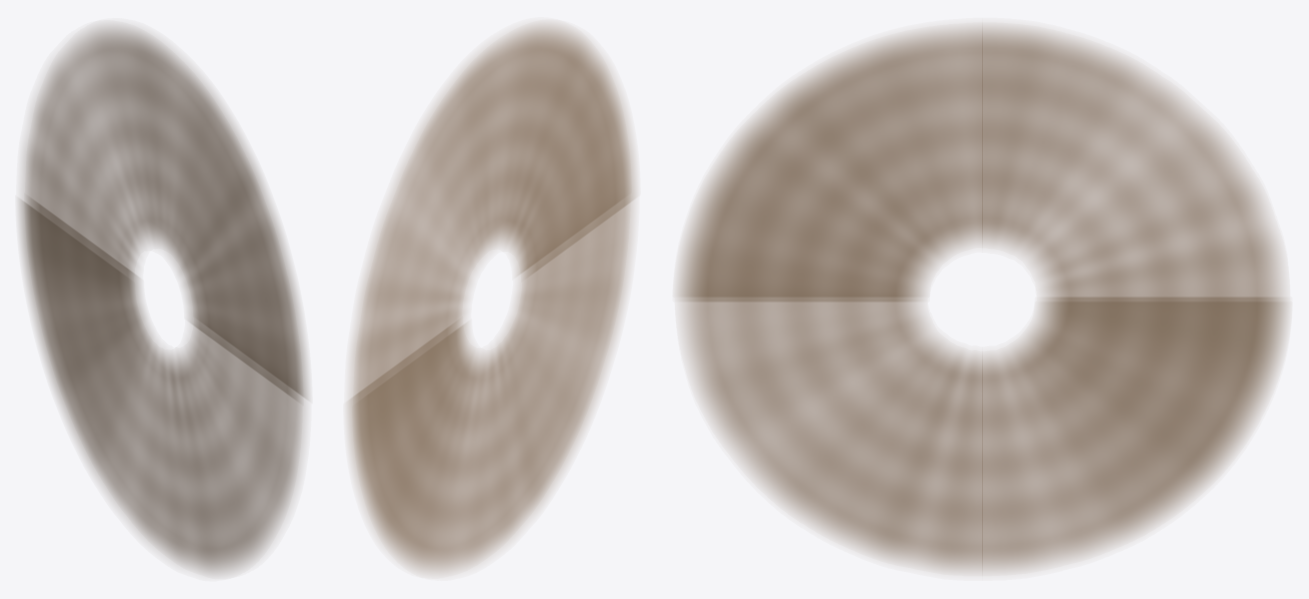
Rendered from prop_blur_disc.glb.
The picture shows the model from 3 angles, left to right: view 1: azimuth 30°, elevation 25°; view 2: azimuth 150°, elevation 25°; view 3: azimuth 270°, elevation 25°; orthographic projection. The views are drawn at different scales.
Visible parts, largest first — view 1: prop_blur_disc; view 2: prop_blur_disc; view 3: prop_blur_disc.
Boxes of the visible parts, x1,y1,x2,y2 form: prop_blur_disc: [19, 24, 308, 575]; prop_blur_disc: [347, 23, 636, 574]; prop_blur_disc: [676, 23, 1289, 574].
Bounding box in the file's own units: 0.003 × 0.168 × 0.168.
Materials: 1 (1 with a texture image).
